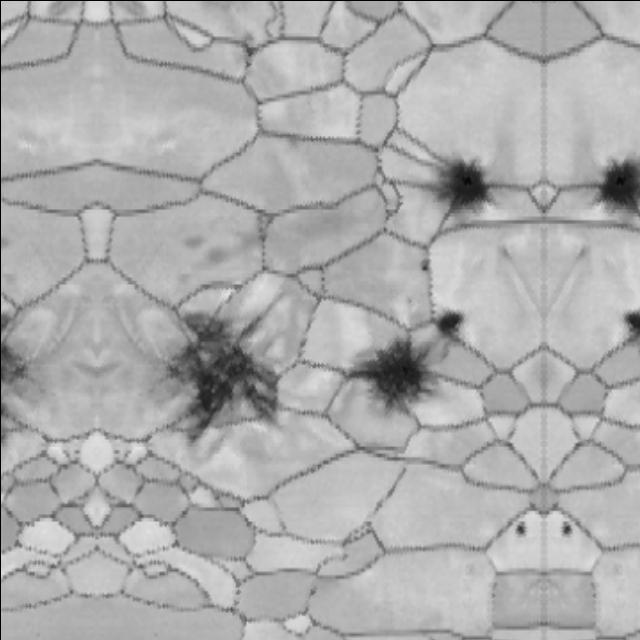good_void: (152, 298, 294, 455), (345, 336, 431, 426), (0, 298, 41, 455), (426, 156, 493, 220), (595, 156, 640, 220), (207, 232, 258, 264), (428, 304, 462, 343), (416, 247, 434, 279), (626, 310, 640, 343), (182, 231, 202, 251), (512, 519, 530, 540), (558, 519, 576, 540), (0, 232, 11, 251)
